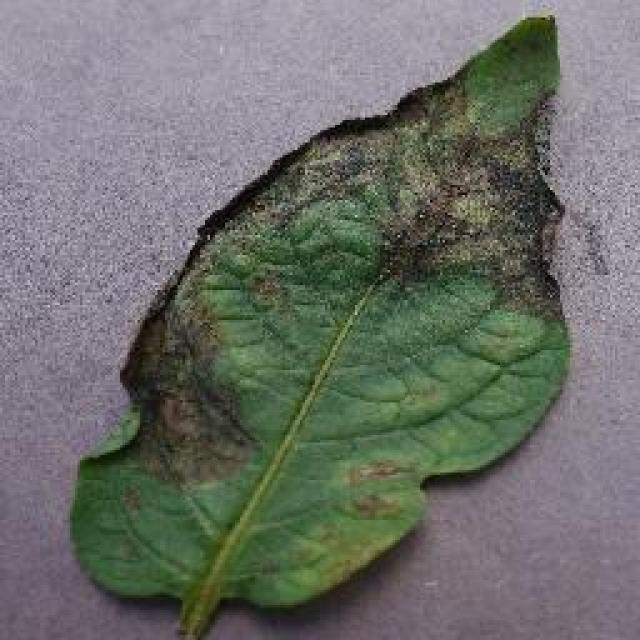late_blight: (65, 10, 575, 638)
